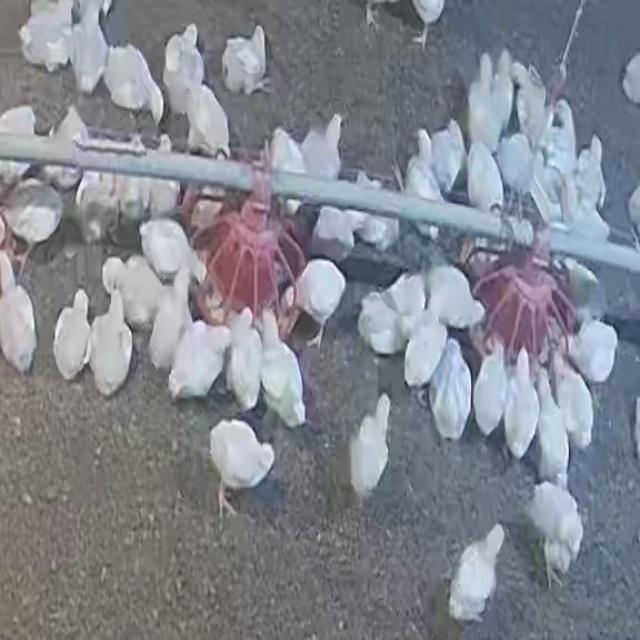chicken: (445, 524, 504, 624), (524, 482, 582, 580), (261, 308, 306, 428), (281, 258, 345, 338), (209, 419, 273, 491), (139, 221, 208, 287), (352, 392, 392, 502), (106, 45, 163, 122), (171, 321, 228, 398), (429, 339, 471, 443), (148, 272, 192, 370), (0, 252, 36, 371), (91, 291, 132, 394), (553, 354, 595, 450), (51, 288, 93, 382), (2, 182, 64, 244), (164, 23, 206, 114), (100, 255, 157, 322), (557, 255, 609, 325), (227, 306, 261, 412), (560, 322, 620, 382), (70, 0, 108, 94), (536, 369, 569, 476), (506, 347, 536, 464), (21, 0, 70, 71), (403, 305, 444, 388), (185, 87, 232, 159), (473, 341, 508, 437), (358, 293, 410, 357), (306, 204, 364, 261), (428, 268, 484, 327), (266, 129, 304, 215), (222, 25, 268, 92), (46, 110, 86, 187), (0, 105, 38, 183), (430, 116, 467, 192), (303, 115, 344, 182), (466, 54, 494, 152), (464, 142, 502, 211), (404, 128, 439, 202), (511, 64, 544, 142), (498, 138, 544, 193), (491, 47, 518, 134), (548, 98, 575, 181), (576, 137, 605, 209)
